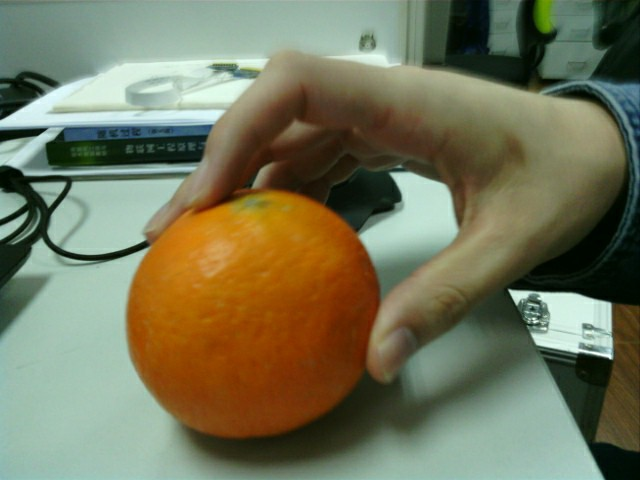normal_orange: (130, 188, 377, 433)
